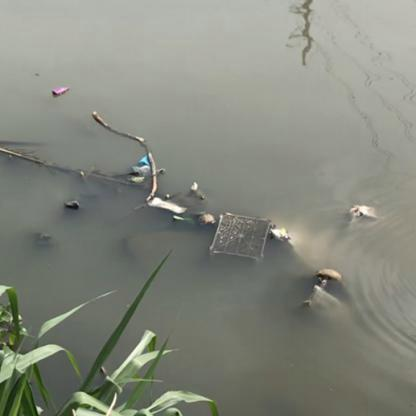Plastic: (48, 83, 73, 99)
Trash: (207, 213, 273, 259)
